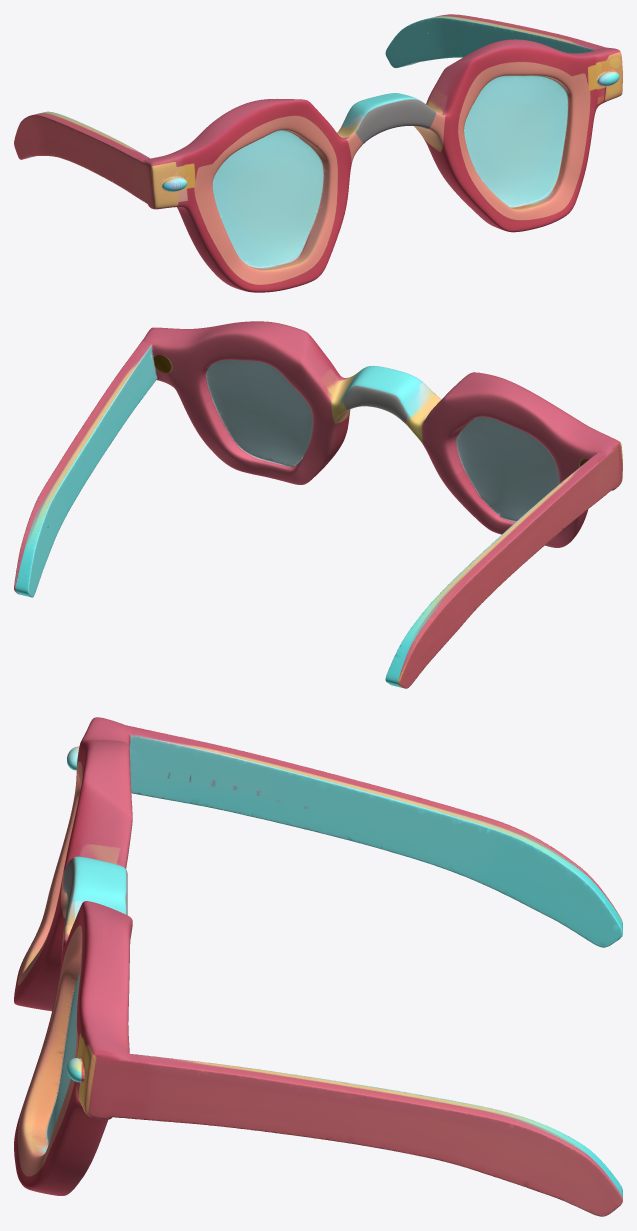
File: An%20isometric%203D%20prop%20of%20nerdy%20glasses%2C%20simple%2C%20blocky%2C%20pastel%20colored%2C%20in%20the%20style%20of%20Monument%20Valley%2C%20isolated%20on%20a%20solid%20white%20background.glb
3 views of the same model, one above another, from view 1: azimuth 30°, elevation 25°; view 2: azimuth 150°, elevation 25°; view 3: azimuth 270°, elevation 25° (orthographic). The views are drawn at different scales.
Bounding box in the file's own units: 1.9 × 0.6539 × 1.45.
1 material, 1 textured.
